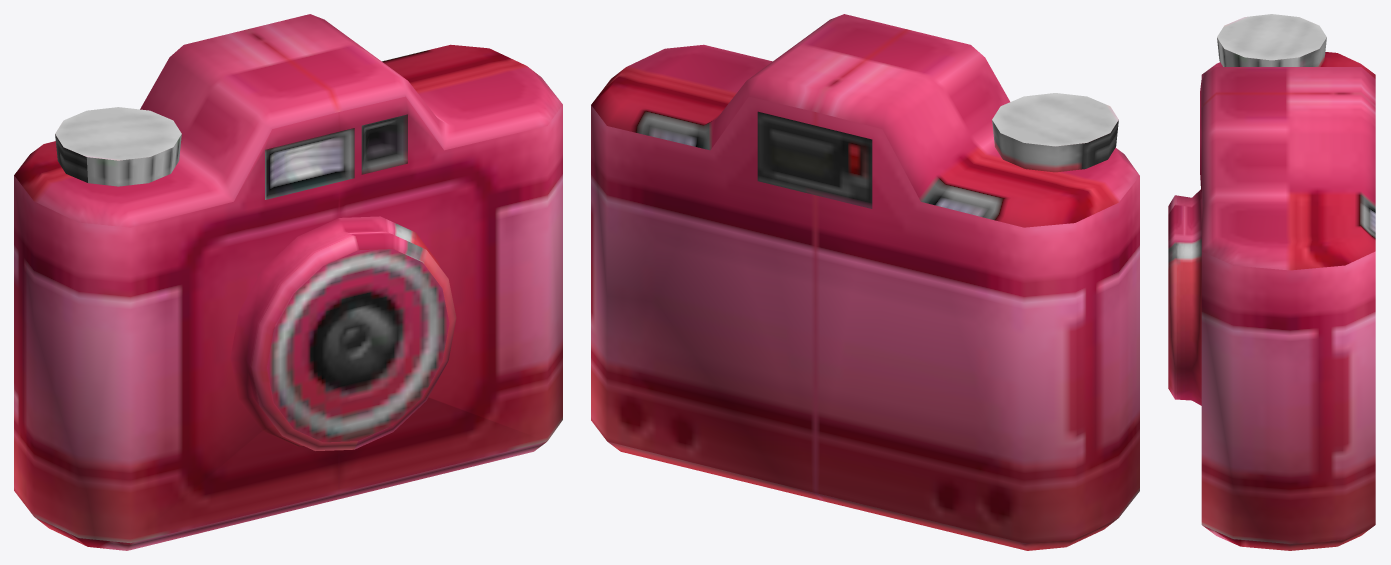
The model's file is rmk_oth_toycamera.dae.
3 renders of one model, left to right at view 1: azimuth 30°, elevation 25°; view 2: azimuth 150°, elevation 25°; view 3: azimuth 270°, elevation 25°, orthographic. The views are drawn at different scales.
Parts seen in each view (by area): view 1: rmk_oth_toycamera; view 2: rmk_oth_toycamera; view 3: rmk_oth_toycamera.
Part boxes in pixels (x1,y1,x2,y2): rmk_oth_toycamera: (14, 14, 562, 550); rmk_oth_toycamera: (591, 14, 1139, 550); rmk_oth_toycamera: (1168, 14, 1375, 550).
Bounding box in the file's own units: 12.26 × 9.48 × 5.02.
Materials: 1 (1 with a texture image).
